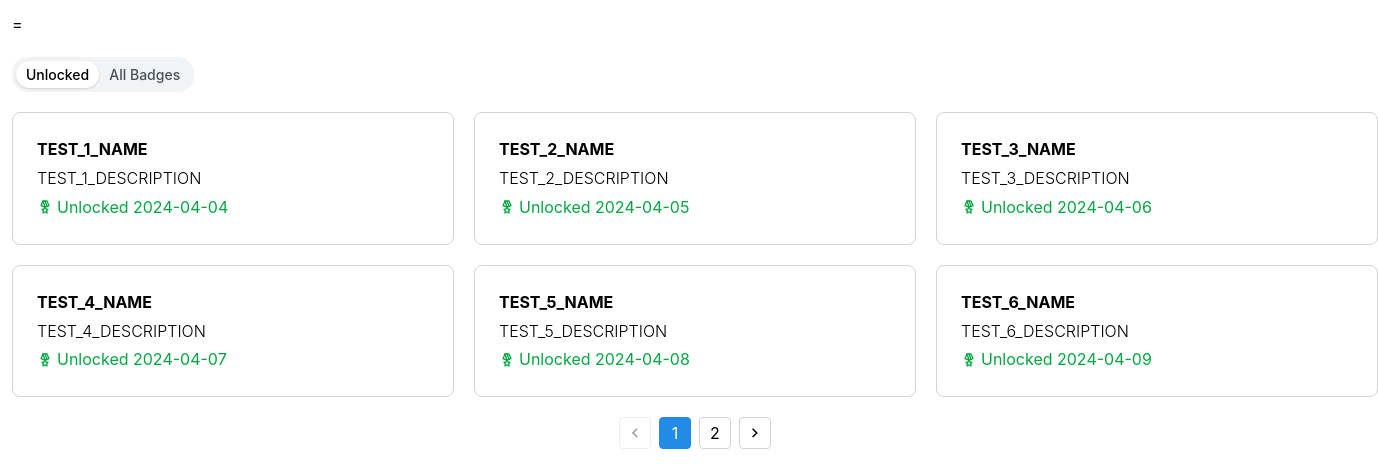
Scenario: BadgeCollection › renders unlocked with pages
Check: the text "TEST_1_NAME" is shown, box left=37, top=140, right=148, bottom=160
Check: the text "TEST_1_DESCRIPTION" is shown, box left=37, top=168, right=201, bottom=188
Click the button "2": {"x": 715, "y": 433} left=699, top=417, right=731, bottom=449
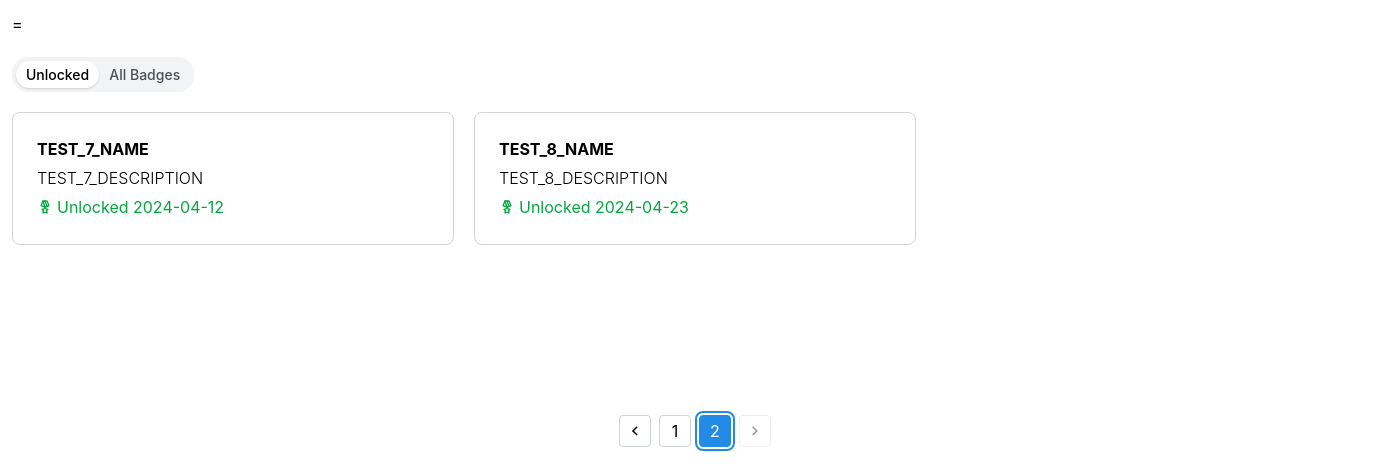
Check: the text "TEST_7_NAME" is shown, box left=37, top=140, right=149, bottom=160
Check: the text "TEST_7_DESCRIPTION" is shown, box left=37, top=168, right=203, bottom=188
Check: the text "TEST_8_NAME" is shown, box left=499, top=140, right=614, bottom=160
